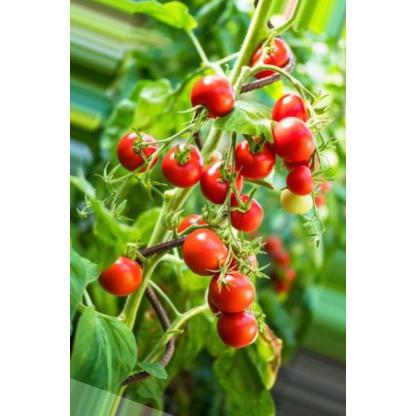tomato: (85, 247, 157, 306), (202, 267, 270, 315), (178, 226, 234, 276), (184, 73, 238, 119), (159, 136, 205, 190), (206, 312, 266, 352), (245, 32, 293, 82), (269, 118, 317, 165), (231, 134, 278, 180), (114, 127, 160, 171), (200, 155, 238, 203), (224, 195, 268, 233), (270, 91, 312, 125), (276, 182, 314, 219), (173, 209, 217, 240), (281, 166, 319, 198)
